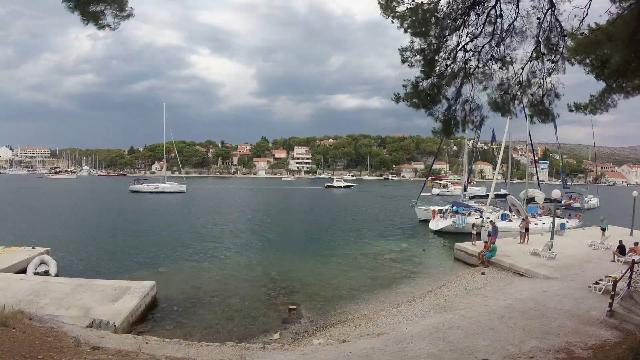Freighter: (41, 165, 81, 181)
Sailboat: (121, 174, 192, 198)
speedboat: (318, 174, 360, 192), (280, 172, 300, 184)
